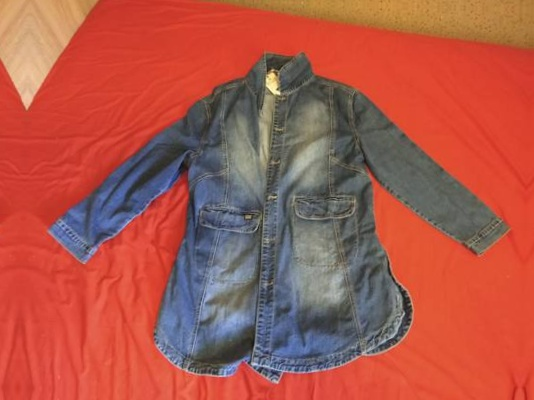Blazer: (37, 52, 508, 395), (0, 36, 8, 379), (26, 398, 497, 400)
